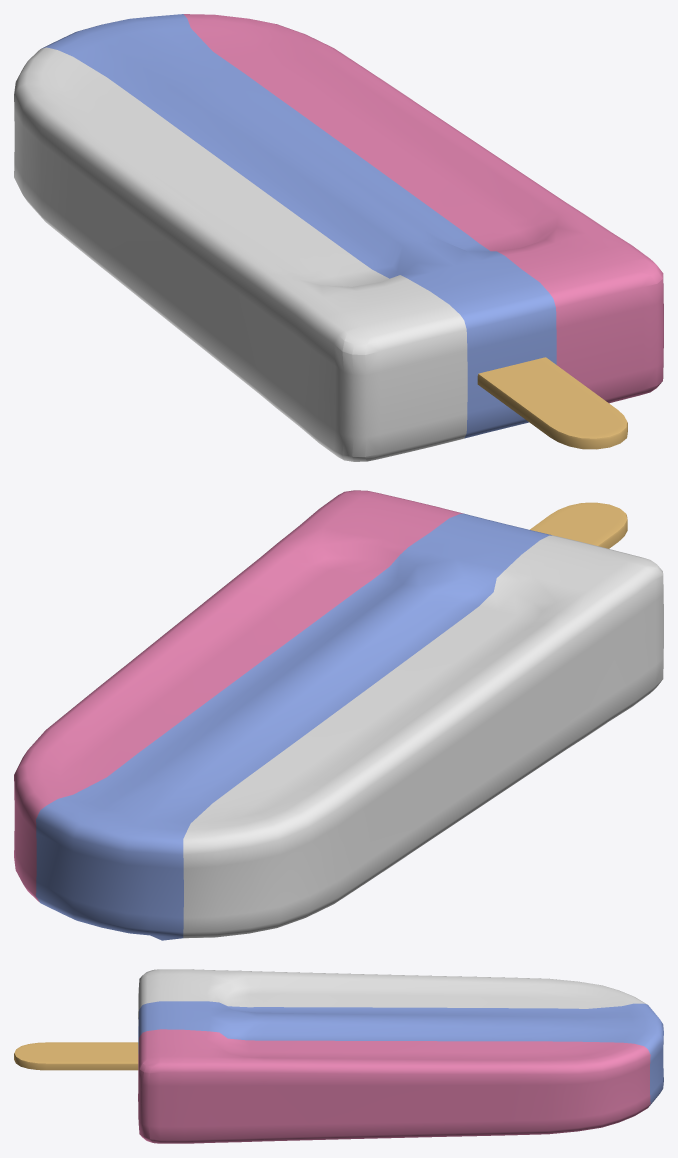
The model's file is popsicle_2.fbx.
The picture shows the model from 3 angles, top to bottom: view 1: azimuth 30°, elevation 25°; view 2: azimuth 150°, elevation 25°; view 3: azimuth 270°, elevation 25°; orthographic projection. The views are drawn at different scales.
Visible parts, largest first — view 1: popsicle, stick; view 2: popsicle, stick; view 3: popsicle, stick.
Boxes of the visible parts, x1=… form: popsicle: x1=14, y1=14, x2=663, y2=461; stick: x1=477, y1=357, x2=627, y2=449; popsicle: x1=14, y1=490, x2=663, y2=940; stick: x1=530, y1=502, x2=627, y2=548; popsicle: x1=138, y1=969, x2=663, y2=1143; stick: x1=14, y1=1042, x2=138, y2=1070.
Size of the model in its own units: 29.47 by 11.34 by 80.99.
